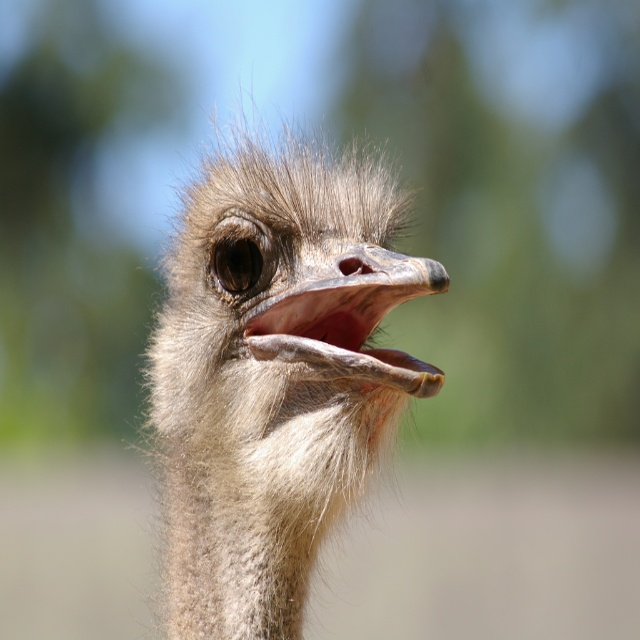Ostrich: (151, 117, 452, 635)
